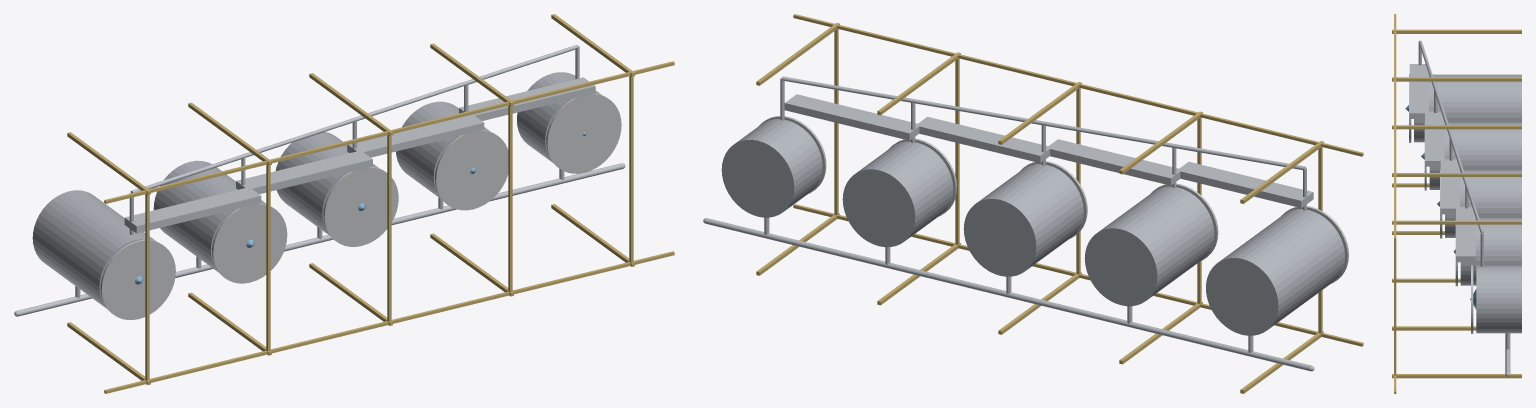
The model's file is cic_adsorption_circuit_demo_v2.glb.
3 views of the same model, side by side, from view 1: azimuth 30°, elevation 25°; view 2: azimuth 150°, elevation 25°; view 3: azimuth 270°, elevation 25° (orthographic). The views are drawn at different scales.
Parts seen in each view (by area): view 1: 140-CC-001__shell, 140-CC-005__top_ring, 140-CC-004__top_ring, 140-CC-003__top_ring, 140-CC-001__top_ring, 140-CC-002__top_ring, 140-CC-002__shell, 140-CC-003__shell, structure__longitudinal_beam__-6.0, structure__longitudinal_beam__6.0, top_launder__segment__01, 140-CC-004__shell (+19 smaller); view 2: 140-CC-001__shell, 140-CC-002__shell, 140-CC-003__shell, 140-CC-004__shell, 140-CC-005__shell, structure__longitudinal_beam__6.0, top_launder__segment__04, top_launder__segment__03, top_launder__segment__01, top_launder__segment__02, structure__longitudinal_beam__-6.0, structure__cross_beam__32.0 (+15 smaller); view 3: 140-CC-001__shell, 140-CC-002__shell, 140-CC-005__shell, 140-CC-003__shell, 140-CC-004__shell, top_launder__segment__04, top_launder__segment__02, top_launder__segment__03, top_launder__segment__01, structure__longitudinal_beam__6.0, structure__post__0.0__6.0, structure__post__32.0__6.0 (+16 smaller).
Part boxes in pixels (<box>): 140-CC-001__shell: <box>32,190,156,308</box>; 140-CC-005__top_ring: <box>546,93,621,173</box>; 140-CC-004__top_ring: <box>434,130,508,210</box>; 140-CC-003__top_ring: <box>323,166,398,246</box>; 140-CC-001__top_ring: <box>100,239,175,319</box>; 140-CC-002__top_ring: <box>212,203,287,283</box>; 140-CC-002__shell: <box>153,160,265,271</box>; 140-CC-003__shell: <box>275,132,379,235</box>; structure__longitudinal_beam__-6.0: <box>104,251,674,393</box>; structure__longitudinal_beam__6.0: <box>104,61,674,203</box>; top_launder__segment__01: <box>124,187,261,233</box>; 140-CC-004__shell: <box>396,101,490,198</box>; 140-CC-001__shell: <box>1206,209,1344,335</box>; 140-CC-002__shell: <box>1084,186,1214,306</box>; 140-CC-003__shell: <box>963,164,1083,276</box>; 140-CC-004__shell: <box>842,141,953,247</box>; 140-CC-005__shell: <box>721,119,822,217</box>; structure__longitudinal_beam__6.0: <box>793,14,1363,156</box>; top_launder__segment__04: <box>784,94,920,140</box>; top_launder__segment__03: <box>918,116,1051,162</box>; top_launder__segment__01: <box>1179,162,1313,207</box>; top_launder__segment__02: <box>1049,139,1182,185</box>; structure__longitudinal_beam__-6.0: <box>793,204,1363,346</box>; structure__cross_beam__32.0: <box>834,29,838,215</box>; 140-CC-001__shell: <box>1414,74,1521,142</box>; 140-CC-002__shell: <box>1429,122,1521,189</box>; 140-CC-005__shell: <box>1476,265,1521,333</box>; 140-CC-003__shell: <box>1445,170,1521,237</box>; 140-CC-004__shell: <box>1460,218,1521,285</box>; top_launder__segment__04: <box>1456,207,1475,262</box>; top_launder__segment__02: <box>1425,111,1444,166</box>; top_launder__segment__03: <box>1440,159,1459,214</box>; top_launder__segment__01: <box>1409,64,1428,118</box>; structure__longitudinal_beam__6.0: <box>1394,14,1396,240</box>; structure__post__0.0__6.0: <box>1392,29,1521,33</box>; structure__post__32.0__6.0: <box>1392,220,1521,224</box>.
Size of the model in its own units: 40.34 by 12.22 by 9.2.
